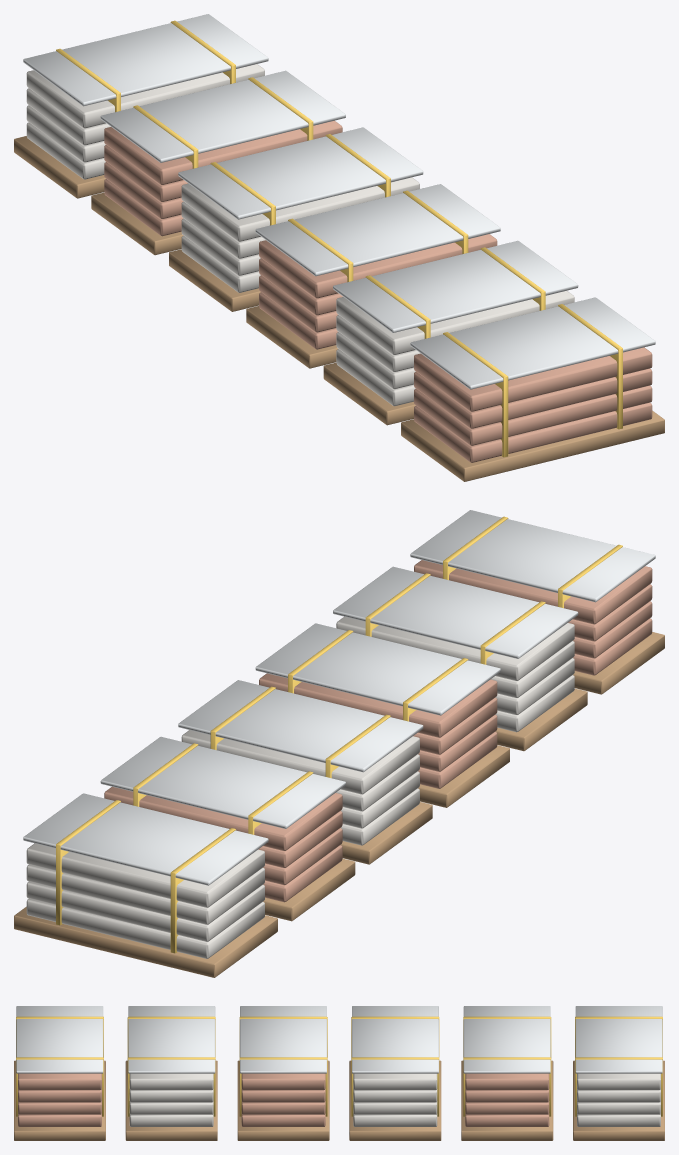
File: cargo_pallets.glb
The picture shows the model from 3 angles, top to bottom: view 1: azimuth 30°, elevation 25°; view 2: azimuth 150°, elevation 25°; view 3: azimuth 270°, elevation 25°; orthographic projection. The views are drawn at different scales.
Visible parts, largest first — view 1: Body; view 2: Body; view 3: Body.
Boxes of the visible parts, left/top/right/bottom form: Body: left=14, top=14, right=664, bottom=481; Body: left=14, top=510, right=664, bottom=977; Body: left=14, top=1006, right=664, bottom=1140.
Bounding box in the file's own units: 2.1 × 0.94 × 8.15.
